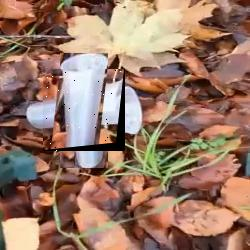plastic: (43, 69, 125, 151)
